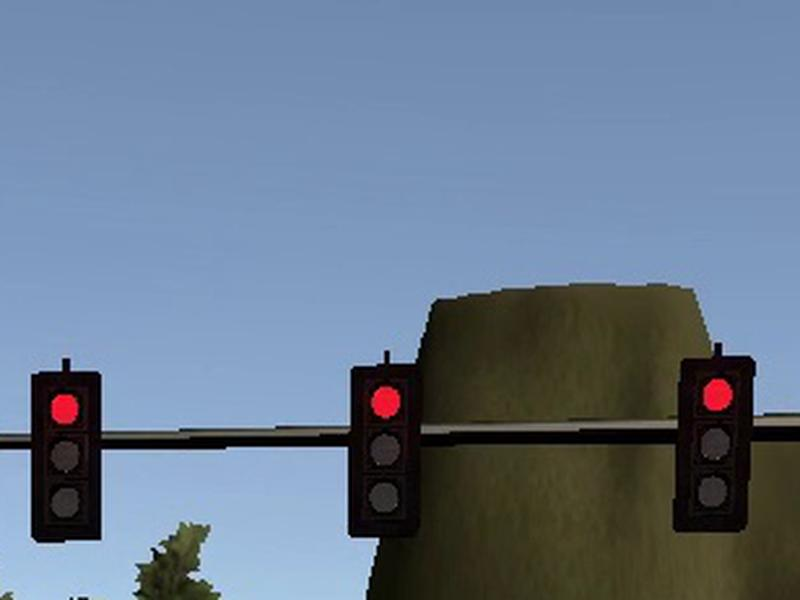Red: (672, 355, 756, 534), (347, 364, 425, 536), (31, 372, 102, 543)
